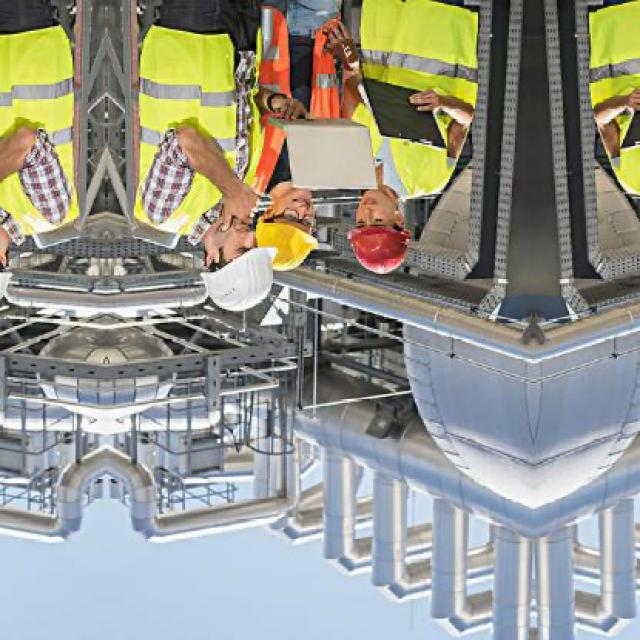con casco: (176, 192, 267, 322), (339, 186, 423, 280), (250, 188, 334, 278)
